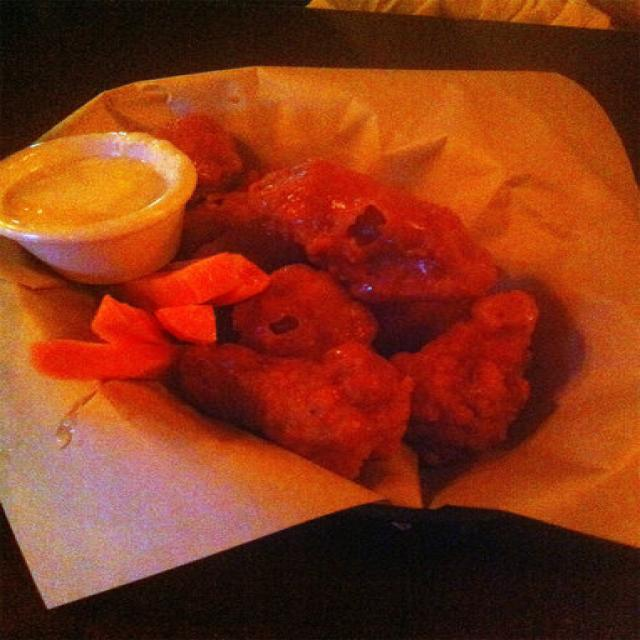Frango: (192, 336, 384, 482), (403, 301, 525, 459)
